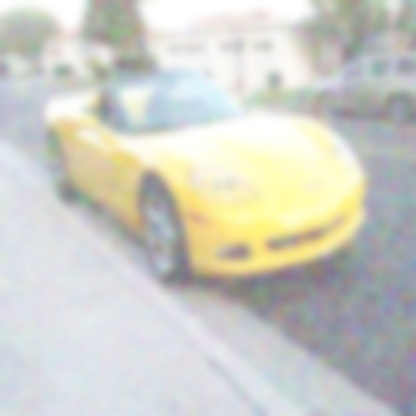Vehicle: (44, 69, 365, 284)
